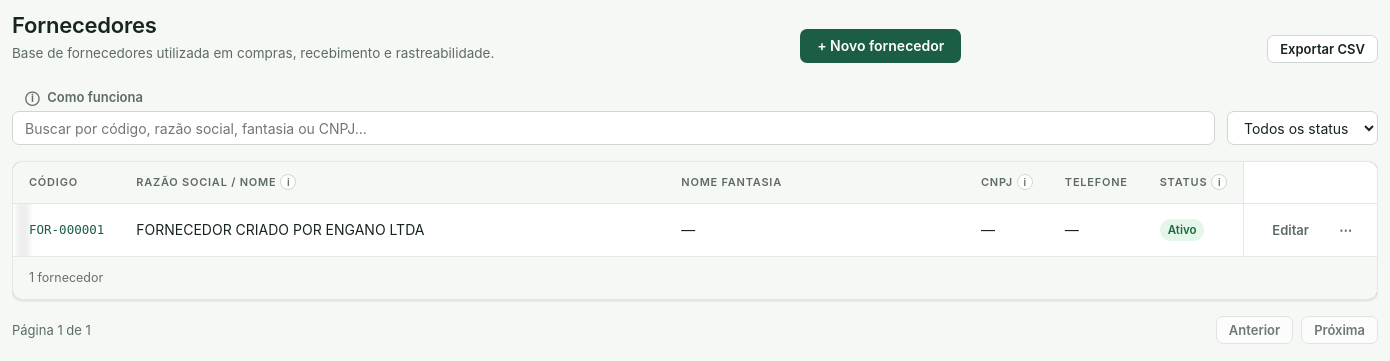
Test: quem vê › Administrador: o menu da linha tem Excluir definitivamente, além de Inativar
Check: the text "FOR-000001" is shown, box [13,204,120,256]
Click the button named "Mais ações de FOR-000001".
click(1346, 230)  # box [1330,216,1361,244]
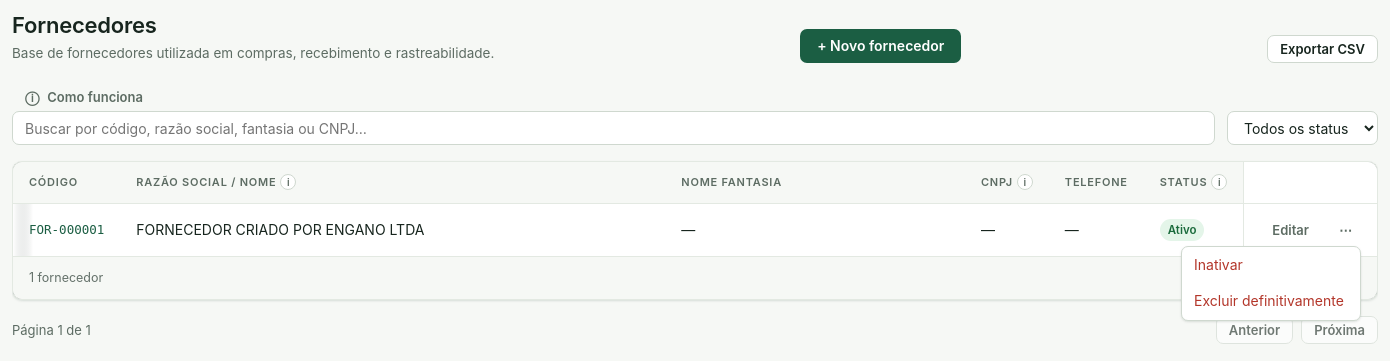
Check: the menu item "Inativar" is shown, box [1182,247,1360,283]
Check: the menu item "Excluir definitivamente" is shown, box [1182,283,1360,320]
